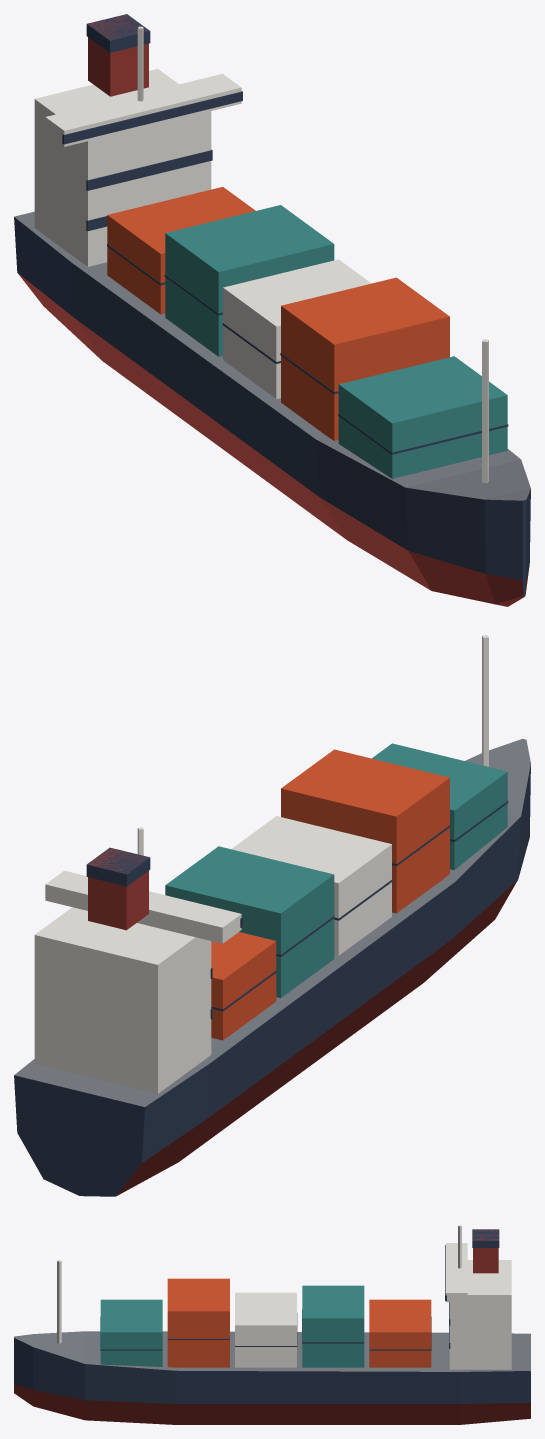
File: boat_cargo.glb
3 views of the same model, one above another, from view 1: azimuth 30°, elevation 25°; view 2: azimuth 150°, elevation 25°; view 3: azimuth 270°, elevation 25° (orthographic). The views are drawn at different scales.
Visible parts, largest first — view 1: Boat_Cargo; view 2: Boat_Cargo; view 3: Boat_Cargo.
Boxes of the visible parts, x1,y1,x2,y2 form: Boat_Cargo: (14,14,530,606); Boat_Cargo: (14,635,530,1196); Boat_Cargo: (14,1225,530,1424).
Bounding box in the file's own units: 9.3 × 16.6 × 40.
